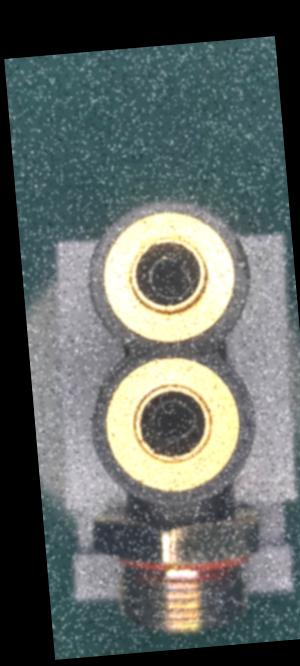bump: (219, 230, 253, 282), (90, 387, 106, 422)
off-centered: (143, 249, 196, 311), (146, 393, 204, 448)
